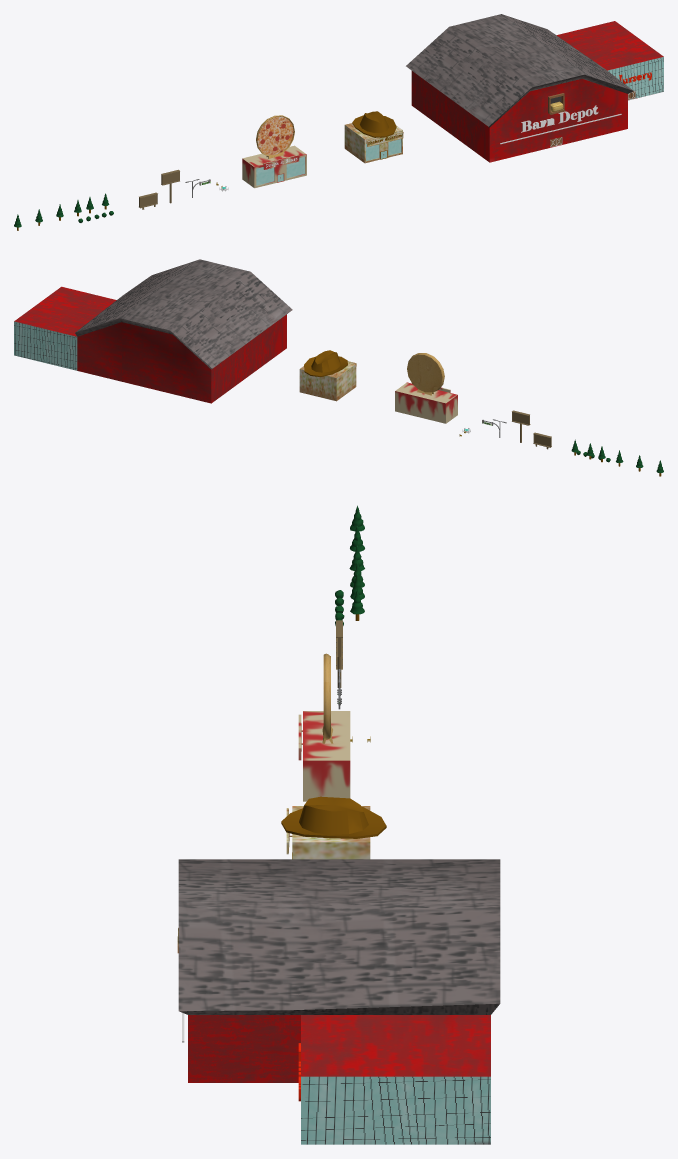
File: Ding_dong_delivery_buildings_2 (4).fbx
3 renders of one model, top to bottom at view 1: azimuth 30°, elevation 25°; view 2: azimuth 150°, elevation 25°; view 3: azimuth 270°, elevation 25°, orthographic. The views are drawn at different scales.
Visible parts, largest first — view 1: Barn_Depot, Dough___Sauce_, Yeehaw_Coleslaw, Cylinder_2, Disc; view 2: Barn_Depot, Dough___Sauce_, Yeehaw_Coleslaw, Cylinder_2, Disc; view 3: Barn_Depot, Dough___Sauce_, Disc, Yeehaw_Coleslaw.
Boxes of the visible parts, <box> form: Barn_Depot: <box>406,14,663,162</box>; Dough___Sauce_: <box>242,145,306,188</box>; Yeehaw_Coleslaw: <box>344,123,403,163</box>; Cylinder_2: <box>256,115,294,158</box>; Disc: <box>352,111,396,137</box>; Barn_Depot: <box>14,259,292,403</box>; Dough___Sauce_: <box>395,382,457,423</box>; Yeehaw_Coleslaw: <box>299,361,356,401</box>; Cylinder_2: <box>407,353,444,395</box>; Disc: <box>304,350,347,377</box>; Barn_Depot: <box>177,859,500,1144</box>; Dough___Sauce_: <box>298,711,350,801</box>; Disc: <box>281,796,386,838</box>; Yeehaw_Coleslaw: <box>286,806,370,859</box>.
Size of the model in its own units: 13285 by 1381 by 3012.
20 materials, 5 textured.
